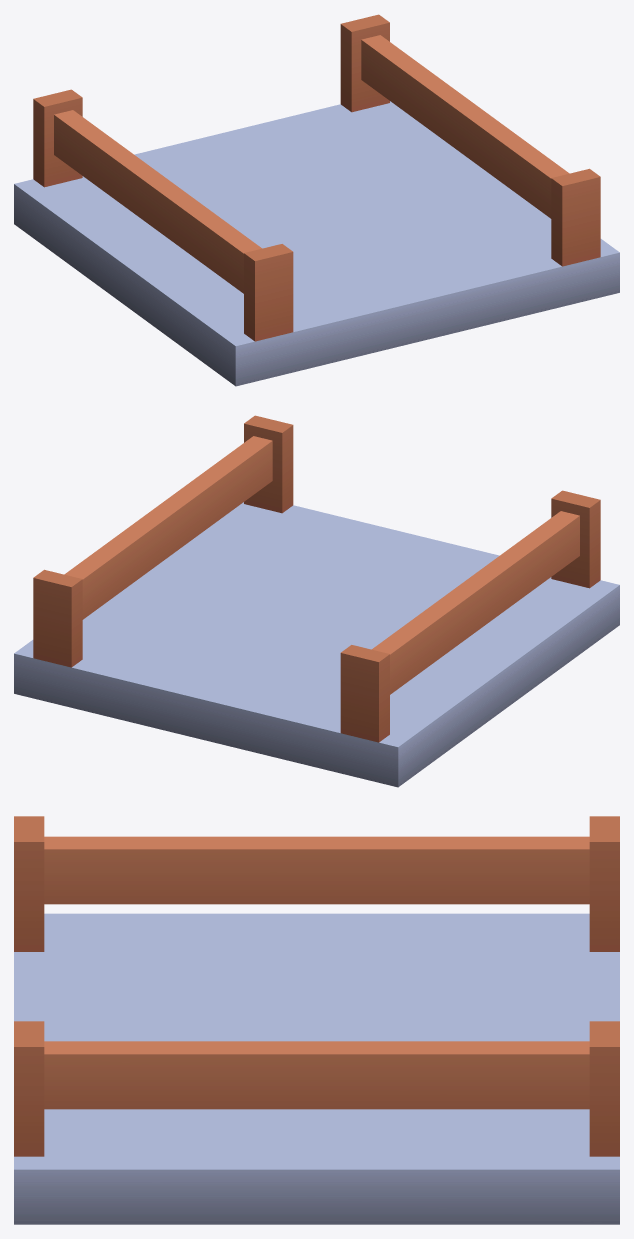
Rendered from path-straight.glb.
The picture shows the model from 3 angles, top to bottom: view 1: azimuth 30°, elevation 25°; view 2: azimuth 150°, elevation 25°; view 3: azimuth 270°, elevation 25°; orthographic projection. The views are drawn at different scales.
Parts seen in each view (by area): view 1: path-straight; view 2: path-straight; view 3: path-straight.
Part boxes in pixels (<box>): path-straight: <box>14,14,619,386</box>; path-straight: <box>14,415,619,787</box>; path-straight: <box>14,816,619,1224</box>.
Size of the model in its own units: 1 by 0.3 by 1.
Materials: 1 (1 with a texture image).
